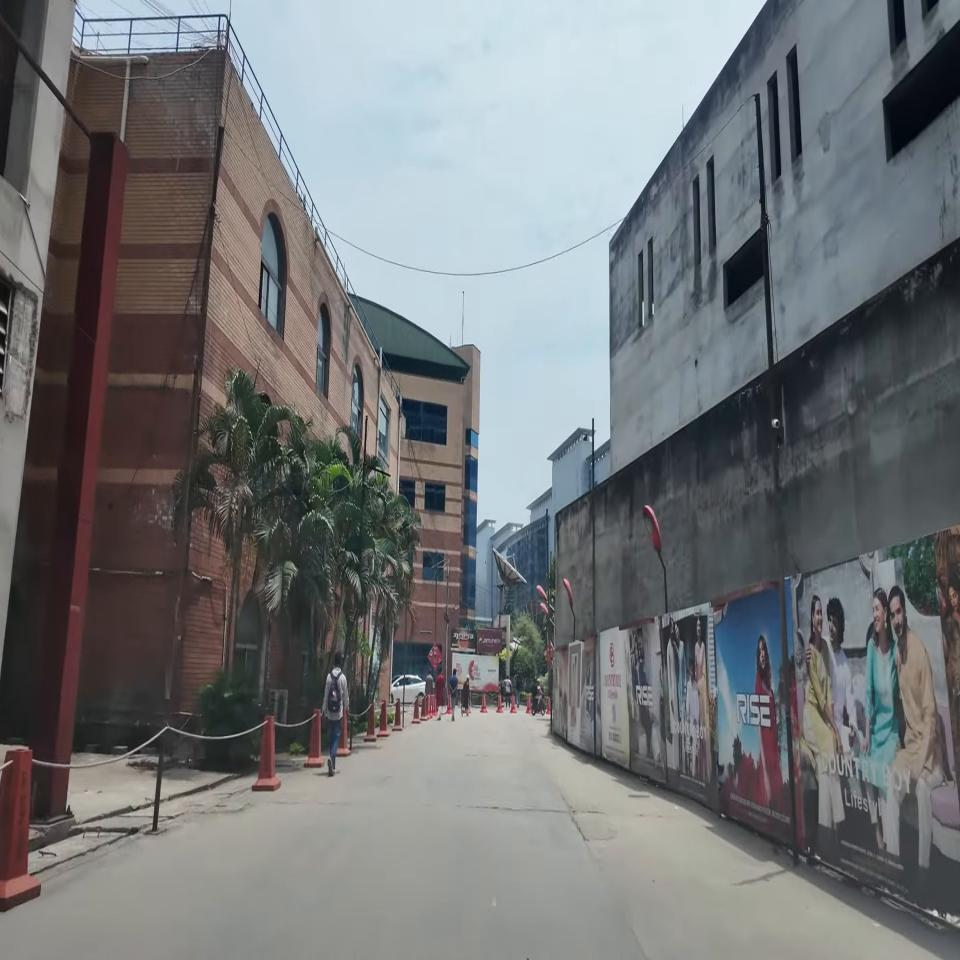person: (449, 668, 458, 721)
